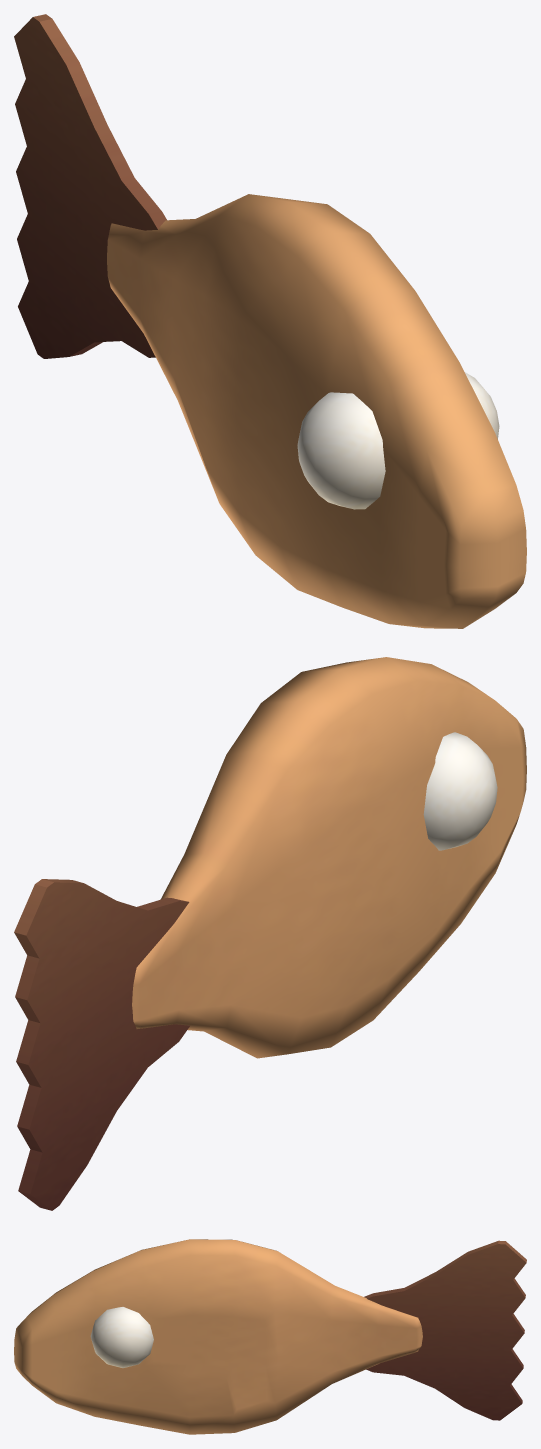
The model's file is Fishy.fbx.
The picture shows the model from 3 angles, top to bottom: view 1: azimuth 30°, elevation 25°; view 2: azimuth 150°, elevation 25°; view 3: azimuth 270°, elevation 25°; orthographic projection. The views are drawn at different scales.
Parts seen in each view (by area): view 1: pPlane3; view 2: pPlane3; view 3: pPlane3.
Boxes of the visible parts, x1,y1,x2,y2 form: pPlane3: (14,14,526,628); pPlane3: (14,657,526,1210); pPlane3: (14,1239,526,1434).
Size of the model in its own units: 2.58 by 4.86 by 11.81.
Materials: 1 (1 with a texture image).
